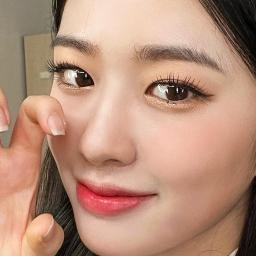face: (64, 0, 248, 256)
